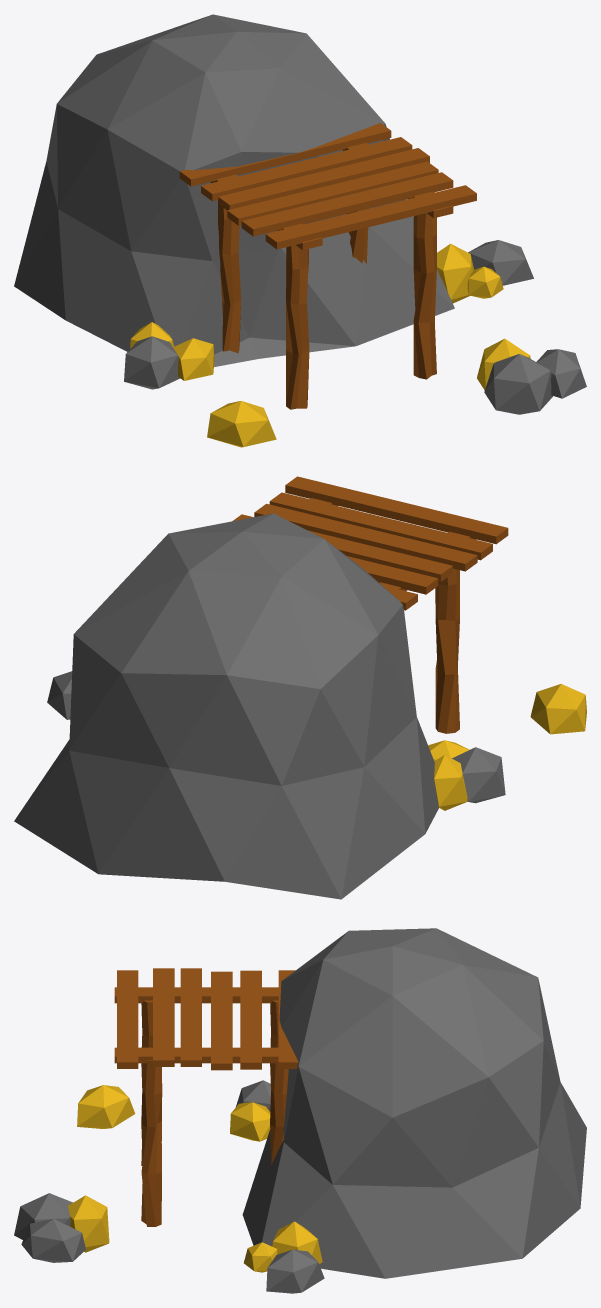
The model's file is Mina_Nv1.glb.
3 views of the same model, one above another, from view 1: azimuth 30°, elevation 25°; view 2: azimuth 150°, elevation 25°; view 3: azimuth 270°, elevation 25° (orthographic). The views are drawn at different scales.
Parts seen in each view (by area): view 1: Icosphere; view 2: Icosphere; view 3: Icosphere.
Boxes of the visible parts, box(x1,y1,x2,y2) form: Icosphere: box(14, 14, 586, 447); Icosphere: box(14, 476, 586, 899); Icosphere: box(14, 928, 586, 1293).
Size of the model in its own units: 1.24 by 0.7837 by 1.58.
